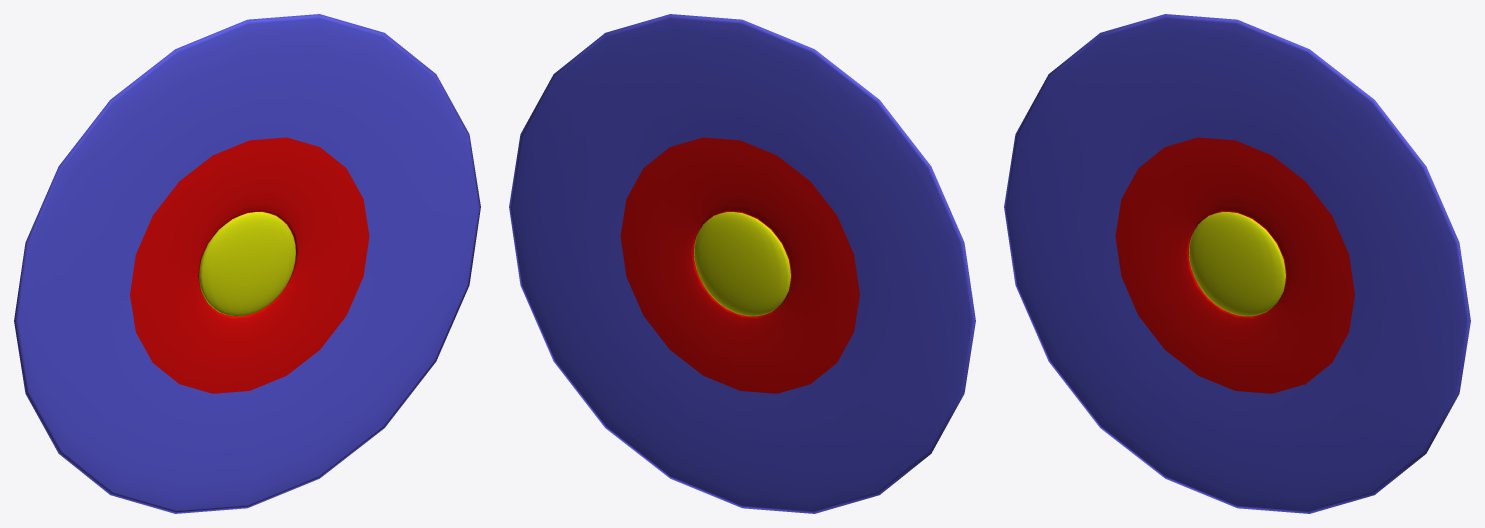
File: Target_1.fbx
The picture shows the model from 3 angles, left to right: view 1: azimuth 30°, elevation 25°; view 2: azimuth 150°, elevation 25°; view 3: azimuth 330°, elevation 25°; orthographic projection.
Parts seen in each view (by area): view 1: pCylinder6; view 2: pCylinder6; view 3: pCylinder6.
Boxes of the visible parts, left/top/right/bottom form: pCylinder6: left=14, top=14, right=480, bottom=513; pCylinder6: left=509, top=14, right=975, bottom=513; pCylinder6: left=1004, top=14, right=1470, bottom=513.
Bounding box in the file's own units: 2.64 × 2.64 × 0.1.
